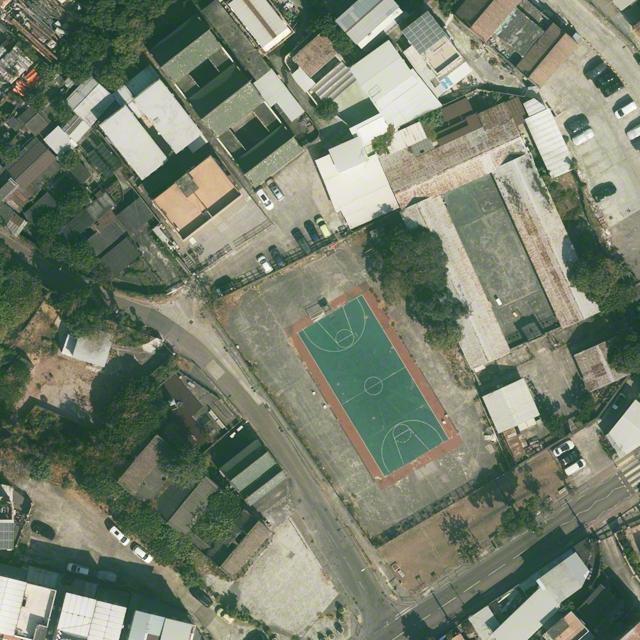SolarPanel: (400, 10, 448, 56)
